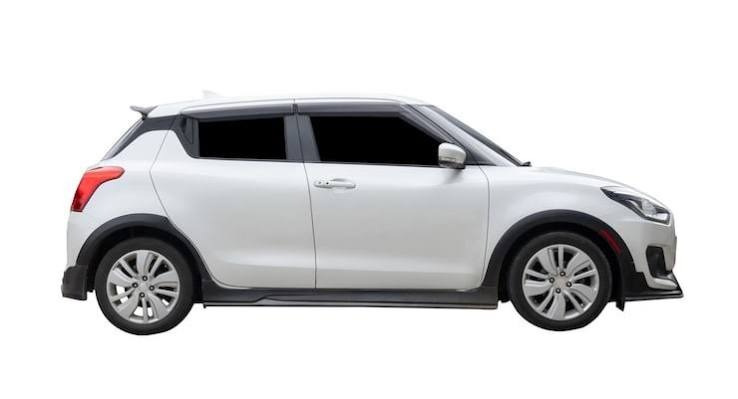car: (49, 85, 691, 335), (50, 87, 679, 335)
